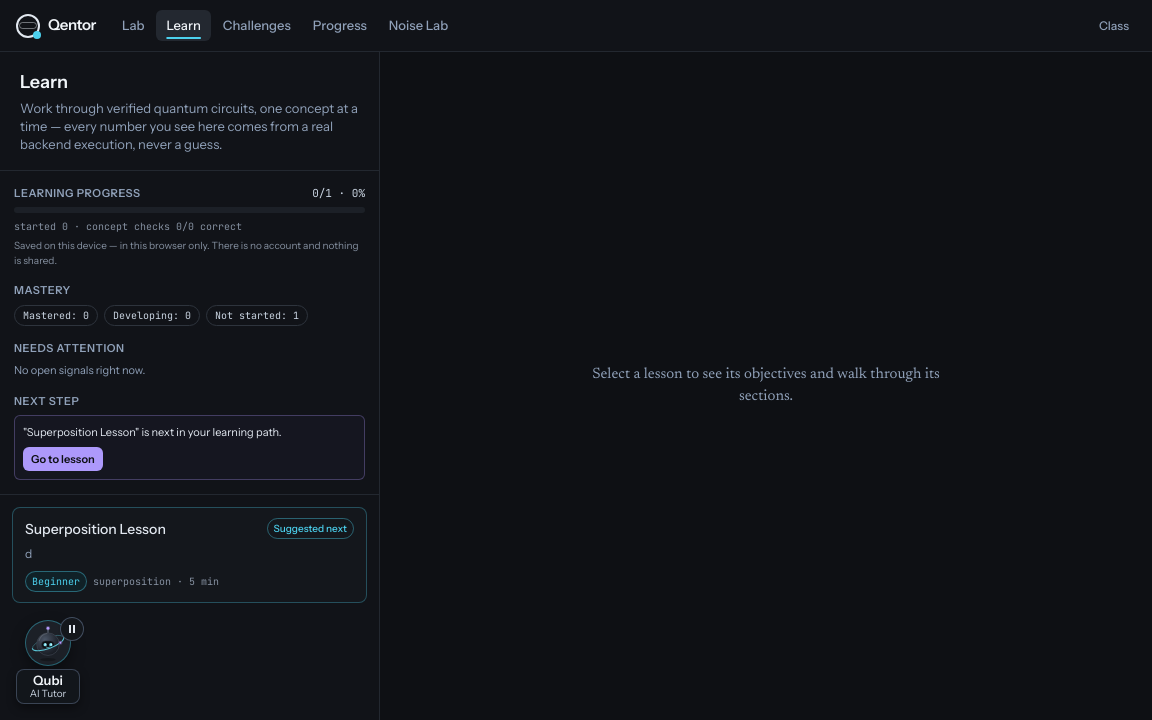
Test: Learn leads on to its challenges › opening one goes to that challenge, ready to solve
Click the button "Superposition Lesson": x=95, y=529 x1=12 y1=507 x2=367 y2=603
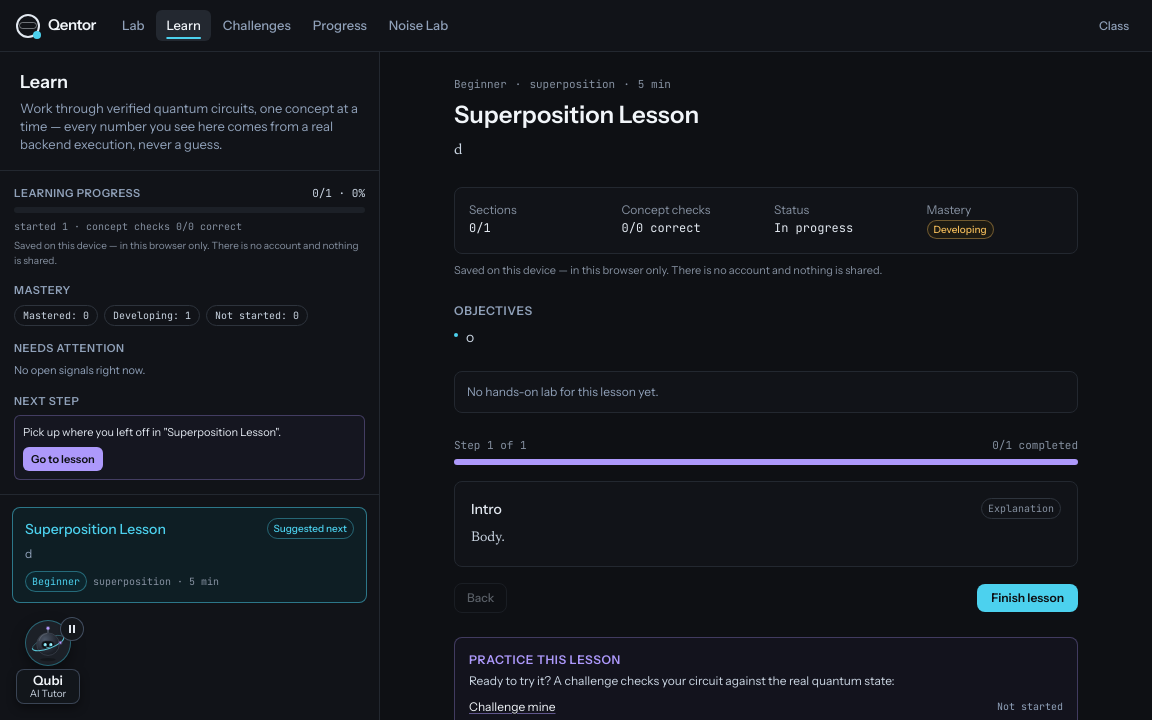
Result: the text "Body." is shown at x1=471 y1=531 x2=505 y2=545
Click the button "Challenge mine": x=512, y=707 x1=469 y1=698 x2=556 y2=716
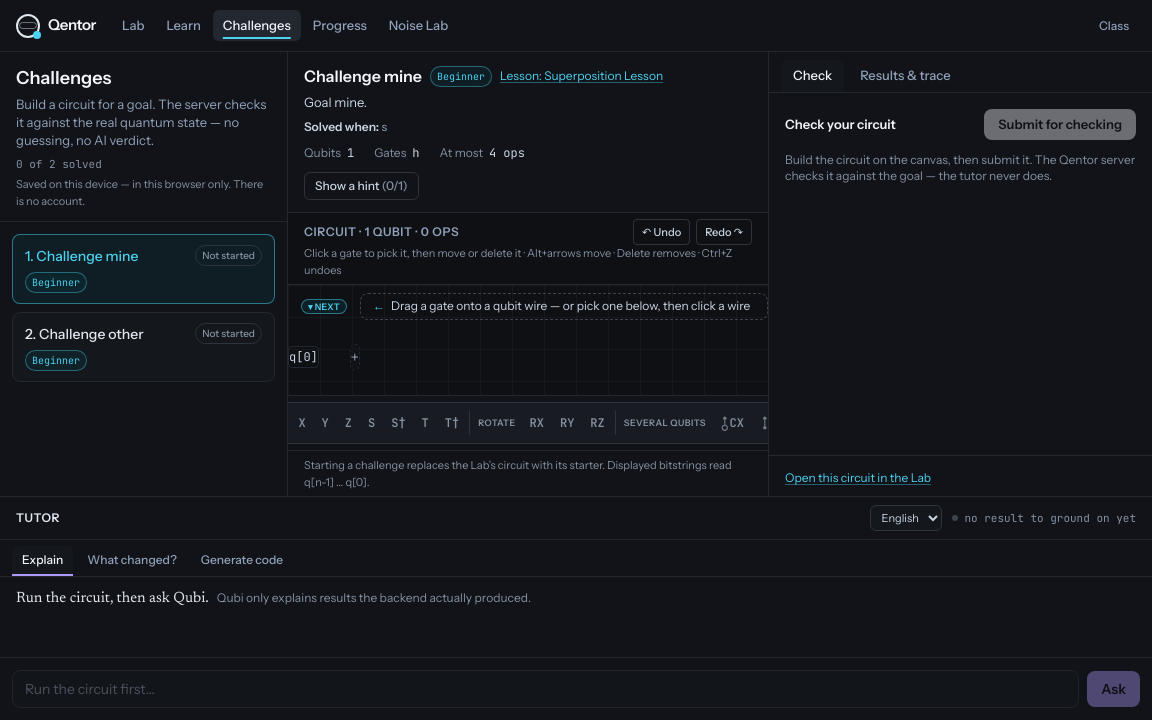
Result: the heading "Challenge mine" is shown at x1=304 y1=64 x2=422 y2=88
